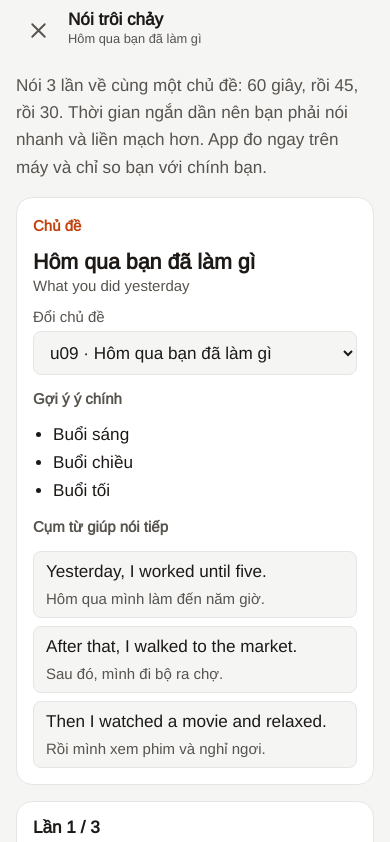
Test case: FluencyScreen › shows the unit's topic with ideas and phrases to listen to
Expected: the heading "Hôm qua bạn đã làm gì What you did yesterday" is shown, [33,250,256,294]
Expected: the list item "Buổi chiều" is shown, [53,453,133,472]
Click the button with aria-label "Nghe “Yesterday, I worked until five.”".
click(156, 571)  # box [33,551,357,618]
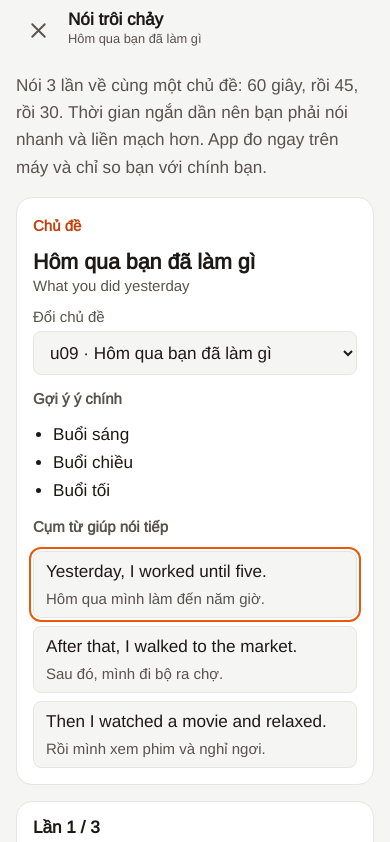
Select "u18 · Gọi đồ cho cả nhóm bạn" in the dropdown labelled "Đổi chủ đề" at (195, 353), box [33,331,357,375]
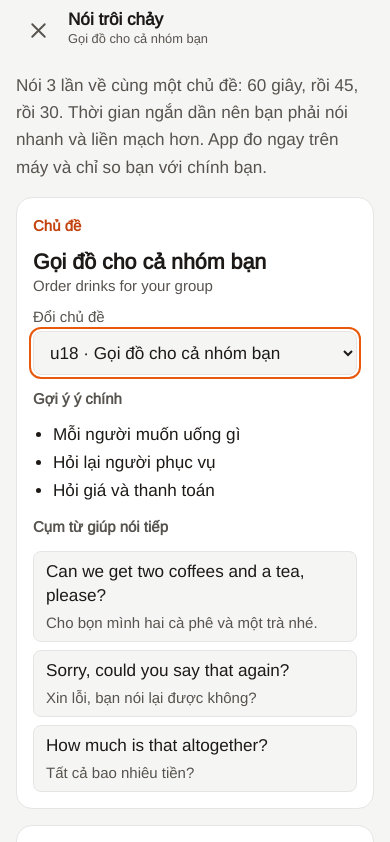
Now the heading "Gọi đồ cho cả nhóm bạn Order drinks for your group" is shown, box [33,250,266,294]
